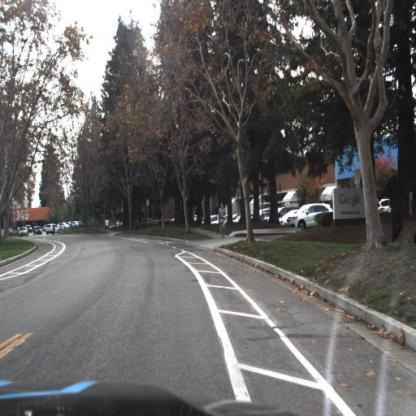biker: (105, 217, 111, 238)
car: (285, 204, 332, 229), (47, 225, 61, 235), (34, 227, 44, 236), (20, 228, 29, 238)
pedestrian: (376, 167, 414, 245), (217, 202, 229, 238)
